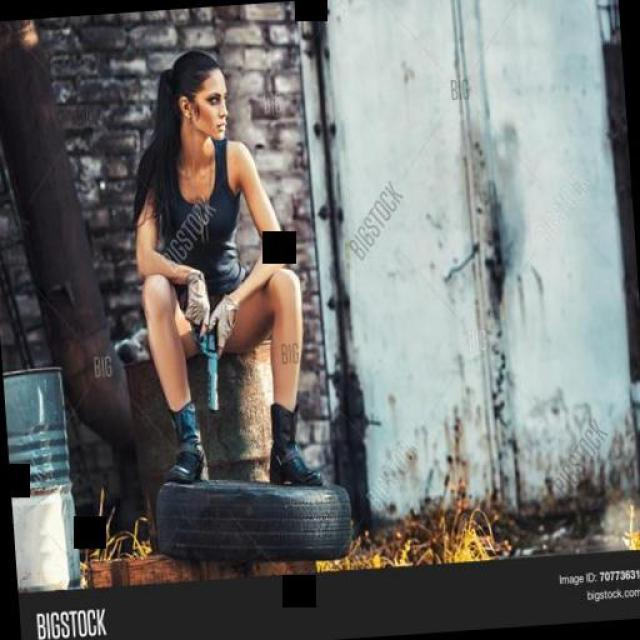gun: (182, 303, 224, 412)
